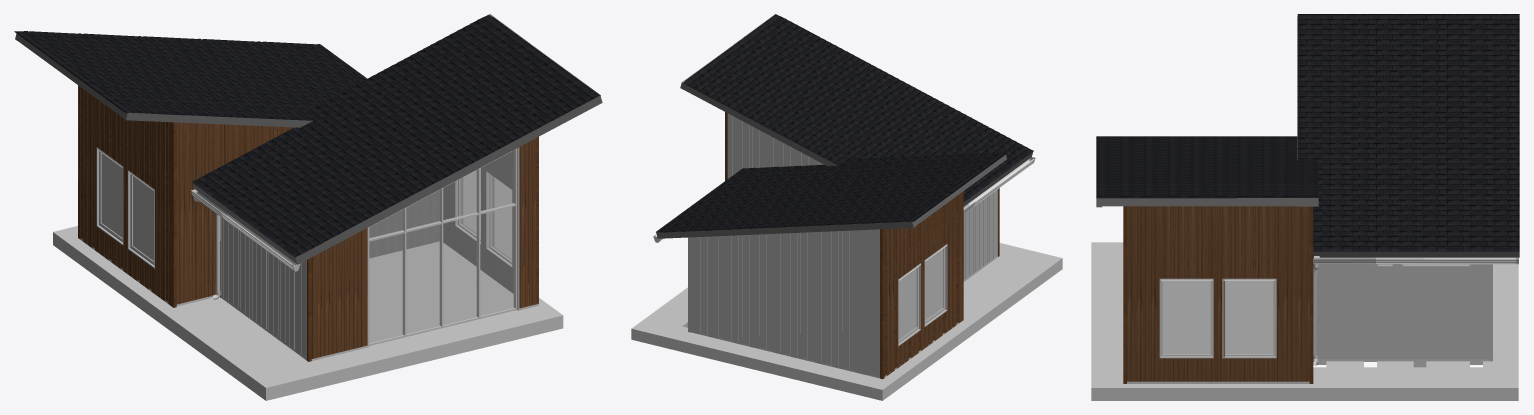
The picture shows the model from 3 angles, left to right: view 1: azimuth 30°, elevation 25°; view 2: azimuth 150°, elevation 25°; view 3: azimuth 270°, elevation 25°; orthographic projection. The views are drawn at different scales.
Visible parts, largest first — view 1: empty_815, empty_1378, empty_816, empty_1458, empty_159, empty_170, empty_165, empty_401, empty_403, empty_831, empty_792, empty_834 (+36 smaller); view 2: empty_1378, empty_793, empty_1767, empty_834, empty_1766, empty_1460, empty_831, empty_1778, empty_1776, empty_1765, empty_1787, empty_1769 (+40 smaller); view 3: empty_1378, empty_813, empty_819, empty_1459, empty_172, empty_226, empty_230, empty_262, empty_266, empty_246, empty_260, empty_791 (+54 smaller).
Boxes of the visible parts, x1,y1,x2,y2 form: empty_815: (369, 150, 514, 342); empty_1378: (53, 226, 563, 400); empty_816: (368, 148, 517, 345); empty_1458: (295, 95, 602, 264); empty_159: (369, 267, 480, 311); empty_170: (382, 288, 508, 332); empty_165: (369, 245, 451, 286); empty_401: (179, 122, 187, 303); empty_403: (187, 123, 195, 301); empty_831: (101, 153, 122, 238); empty_792: (126, 112, 312, 127); empty_834: (133, 176, 153, 260); empty_1378: (631, 243, 1062, 400); empty_793: (656, 221, 915, 238); empty_1767: (866, 229, 873, 374); empty_834: (925, 249, 943, 320); empty_1766: (842, 230, 849, 368); empty_1460: (681, 81, 837, 166); empty_831: (899, 268, 916, 339); empty_1778: (814, 232, 821, 363); empty_1776: (873, 229, 879, 376); empty_1765: (856, 230, 862, 374); empty_1787: (790, 233, 797, 357); empty_1769: (849, 230, 855, 370); empty_1378: (1091, 242, 1518, 400); empty_813: (1162, 280, 1210, 353); empty_819: (1225, 280, 1273, 353); empty_1459: (1096, 198, 1318, 206); empty_172: (1188, 280, 1245, 322); empty_226: (1135, 206, 1144, 381); empty_230: (1149, 206, 1158, 381); empty_262: (1281, 206, 1290, 381); empty_266: (1295, 206, 1304, 381); empty_246: (1215, 206, 1224, 381); empty_260: (1272, 206, 1281, 381); empty_791: (1313, 251, 1519, 257).
Size of the model in its own units: 9.24 by 5.2 by 9.06.
696 materials, 298 textured.
